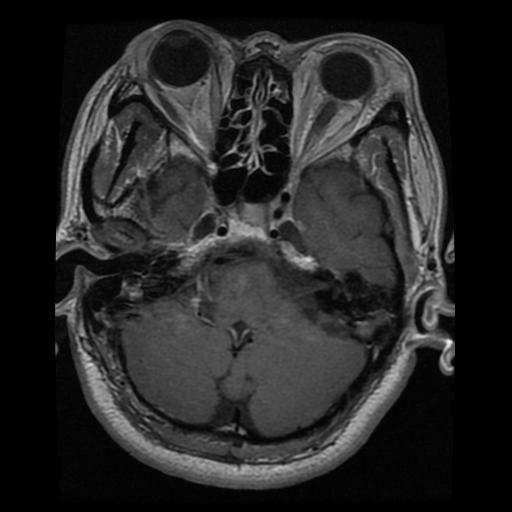Tumour-Pituitary: (200, 197, 298, 239)
